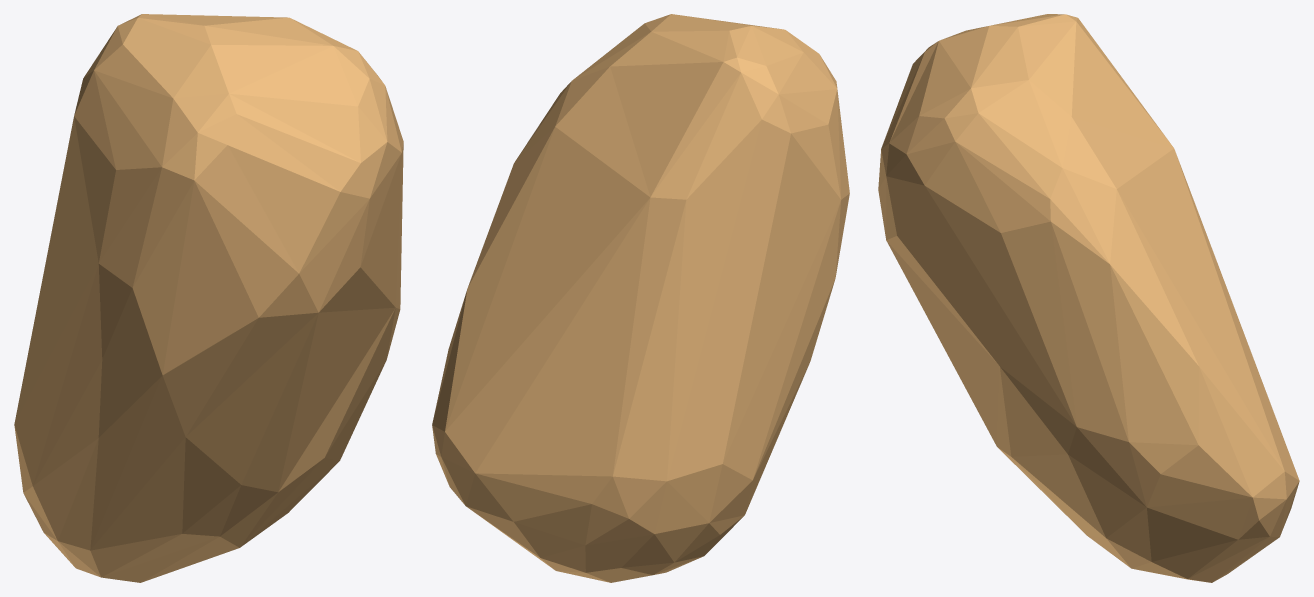
Rendered from citrinitas.gltf.
The picture shows the model from 3 angles, left to right: view 1: azimuth 30°, elevation 25°; view 2: azimuth 150°, elevation 25°; view 3: azimuth 270°, elevation 25°; orthographic projection. The views are drawn at different scales.
Visible parts, largest first — view 1: Head.001; view 2: Head.001; view 3: Head.001.
Boxes of the visible parts, bbox=[...] form: Head.001: bbox=[14, 14, 403, 582]; Head.001: bbox=[432, 14, 849, 582]; Head.001: bbox=[878, 14, 1299, 582].
Bounding box in the file's own units: 3.31 × 5.27 × 3.88.
